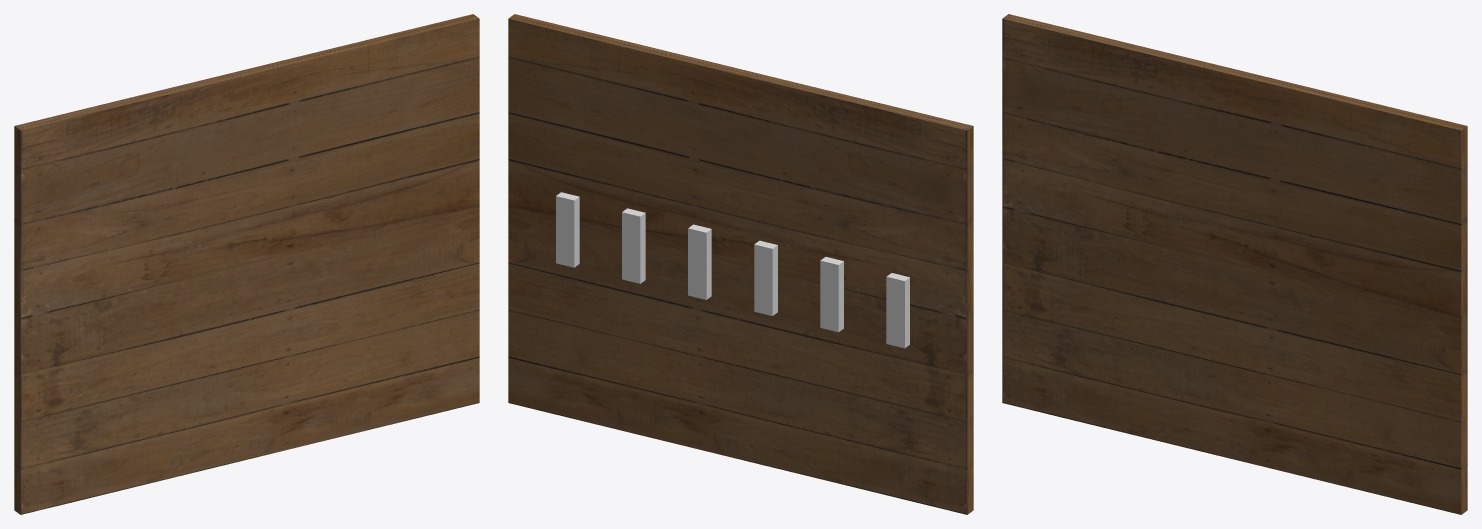
File: quadro_chaves.glb
3 renders of one model, left to right at view 1: azimuth 30°, elevation 25°; view 2: azimuth 150°, elevation 25°; view 3: azimuth 330°, elevation 25°, orthographic.
Visible parts, largest first — view 1: Quadro_Chaves; view 2: Quadro_Chaves, Chave_Pendurada.002, Chave_Pendurada.004, Chave_Pendurada, Chave_Pendurada.005, Chave_Pendurada.001, Chave_Pendurada.003; view 3: Quadro_Chaves.
Boxes of the visible parts, x1,y1,x2,y2 form: Quadro_Chaves: [14, 14, 479, 514]; Quadro_Chaves: [508, 14, 973, 514]; Chave_Pendurada.002: [754, 240, 777, 315]; Chave_Pendurada.004: [622, 208, 645, 283]; Chave_Pendurada: [886, 273, 909, 348]; Chave_Pendurada.005: [556, 192, 579, 267]; Chave_Pendurada.001: [820, 257, 843, 332]; Chave_Pendurada.003: [688, 224, 711, 299]; Quadro_Chaves: [1002, 14, 1467, 514].
Size of the model in its own units: 0.5 by 0.4 by 0.026.
Materials: 2 (1 with a texture image).
